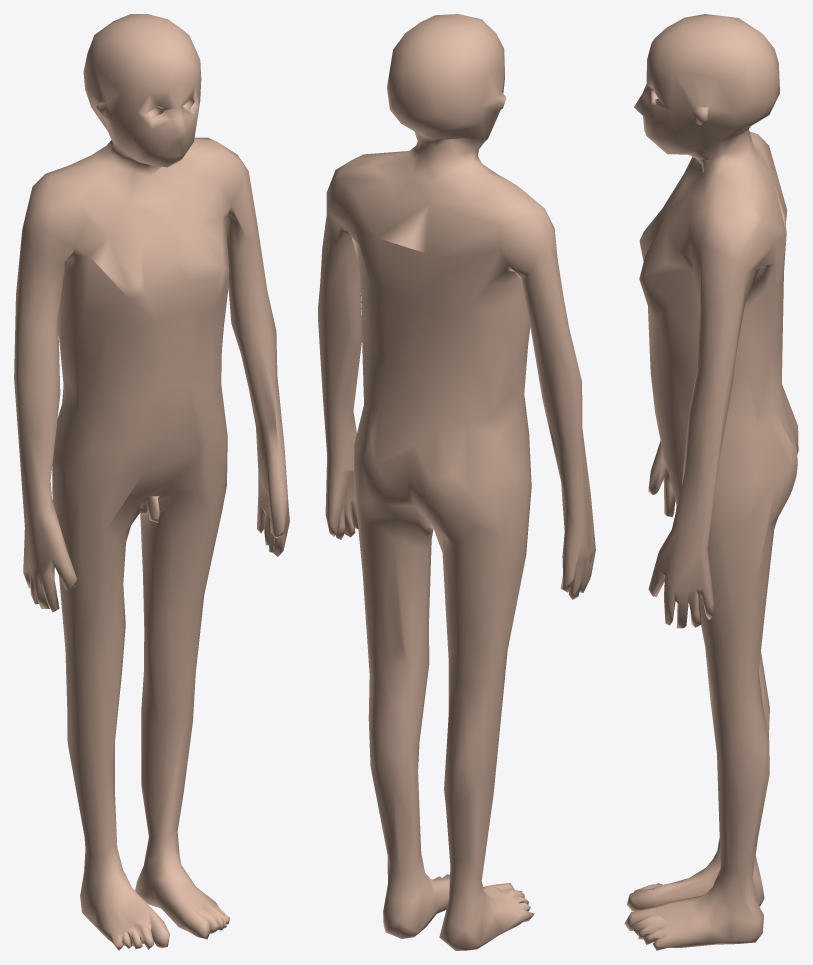
The model's file is pediatric_child_10y_male.surface.LOD3.glb.
3 views of the same model, side by side, from view 1: azimuth 30°, elevation 25°; view 2: azimuth 150°, elevation 25°; view 3: azimuth 270°, elevation 25° (orthographic).
Parts seen in each view (by area): view 1: PEDIATRIC.CHILD_10Y.MALE.SURFACE.SKIN; view 2: PEDIATRIC.CHILD_10Y.MALE.SURFACE.SKIN; view 3: PEDIATRIC.CHILD_10Y.MALE.SURFACE.SKIN.
Part boxes in pixels (box(x1,y1,x2,y2)): PEDIATRIC.CHILD_10Y.MALE.SURFACE.SKIN: box(14, 14, 289, 950); PEDIATRIC.CHILD_10Y.MALE.SURFACE.SKIN: box(318, 14, 595, 950); PEDIATRIC.CHILD_10Y.MALE.SURFACE.SKIN: box(624, 14, 798, 950).
Size of the model in its own units: 0.4138 by 1.38 by 0.2415.
